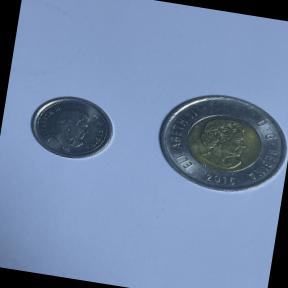coin: (146, 82, 288, 203), (21, 88, 122, 168)
